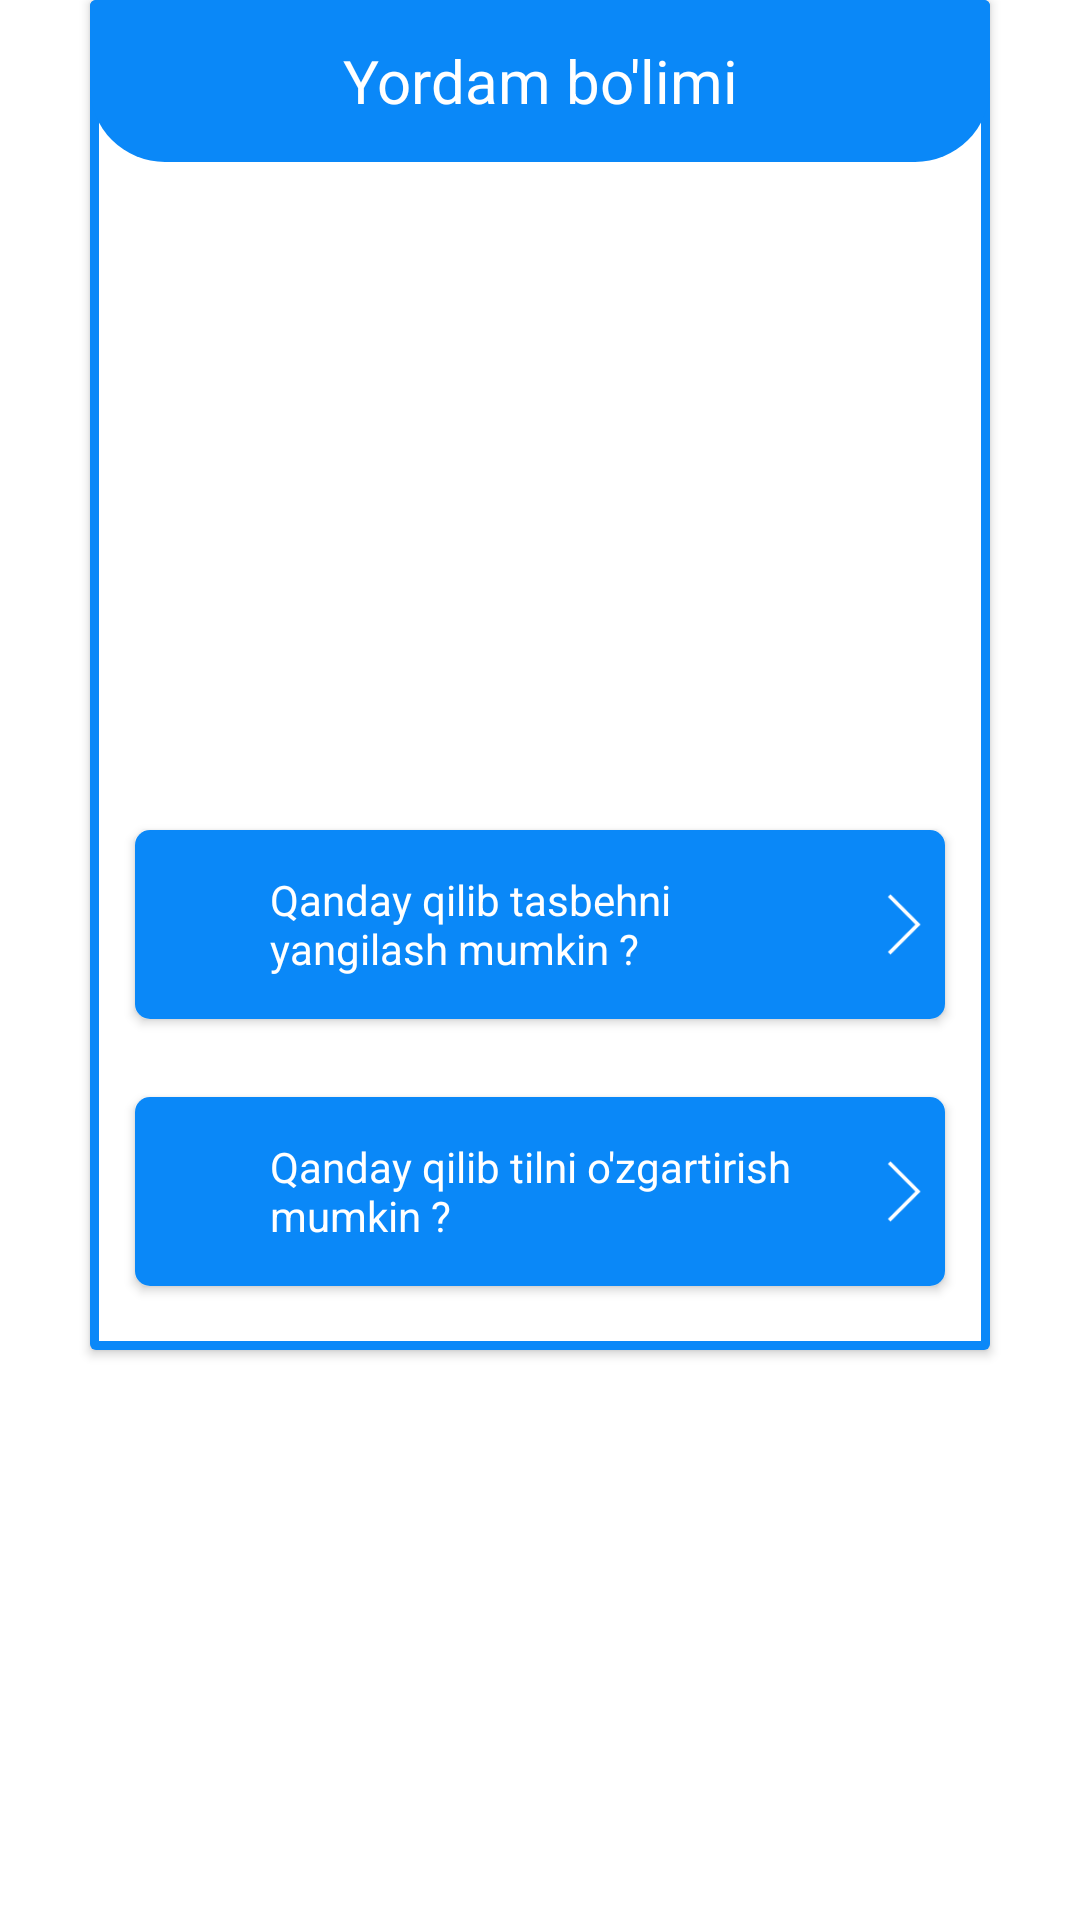

Where to tap for icons on this 1080x1920 app screen, as point (x, y):
moree: point (900, 924), point (900, 1191)
